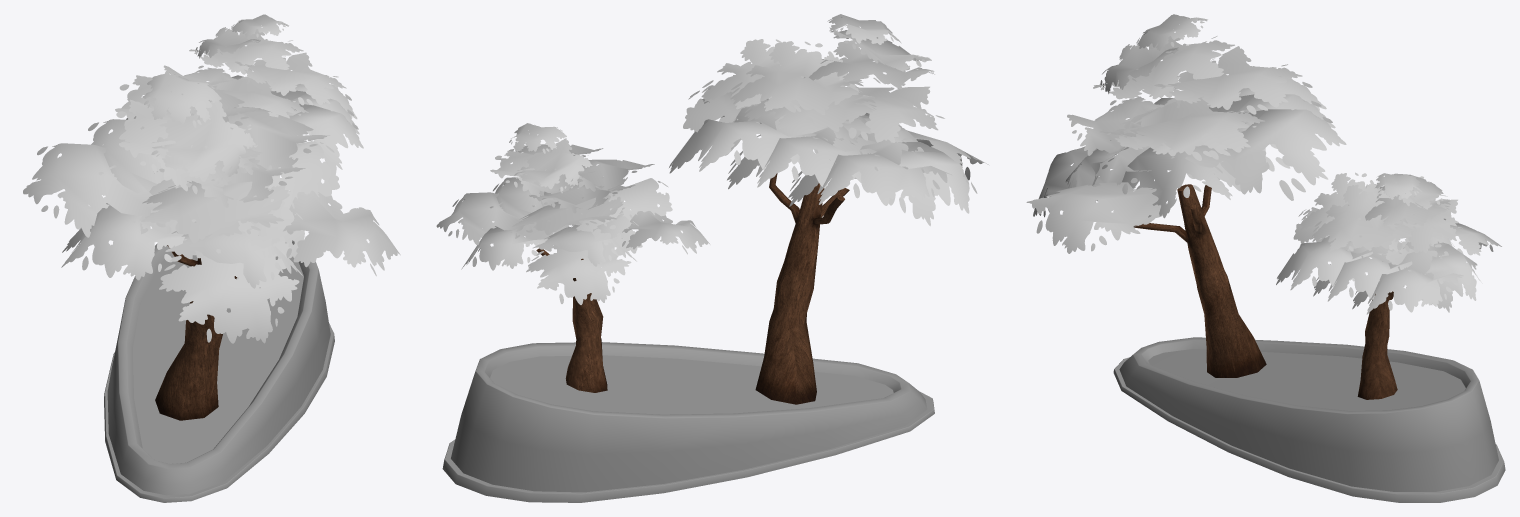
File: TreePlatformPlaza.fbx
3 renders of one model, left to right at view 1: azimuth 30°, elevation 25°; view 2: azimuth 150°, elevation 25°; view 3: azimuth 270°, elevation 25°, orthographic. The views are drawn at different scales.
Parts seen in each view (by area): view 1: Tree_Leaves_038, TreePlatform, Tree_Leaves_037, Tree_LP018; view 2: TreePlatform, Tree_Leaves_038, Tree_Leaves_037, Tree_LP018, Tree_LP017; view 3: TreePlatform, Tree_Leaves_038, Tree_Leaves_037, Tree_LP018, Tree_LP017.
Part boxes in pixels (x1=…): Tree_Leaves_038: x1=23, y1=72, x2=400, y2=343; TreePlatform: x1=104, y1=240, x2=334, y2=502; Tree_Leaves_037: x1=126, y1=14, x2=363, y2=169; Tree_LP018: x1=155, y1=245, x2=222, y2=420; TreePlatform: x1=442, y1=342, x2=934, y2=502; Tree_Leaves_038: x1=669, y1=14, x2=988, y2=226; Tree_Leaves_037: x1=436, y1=123, x2=710, y2=304; Tree_LP018: x1=755, y1=173, x2=849, y2=404; Tree_LP017: x1=536, y1=248, x2=607, y2=392; TreePlatform: x1=1113, y1=337, x2=1505, y2=502; Tree_Leaves_038: x1=1026, y1=14, x2=1346, y2=253; Tree_Leaves_037: x1=1276, y1=172, x2=1501, y2=314; Tree_LP018: x1=1133, y1=184, x2=1266, y2=377; Tree_LP017: x1=1357, y1=291, x2=1397, y2=399.
Bounding box in the file's own units: 10.13 × 9.08 × 10.9.
